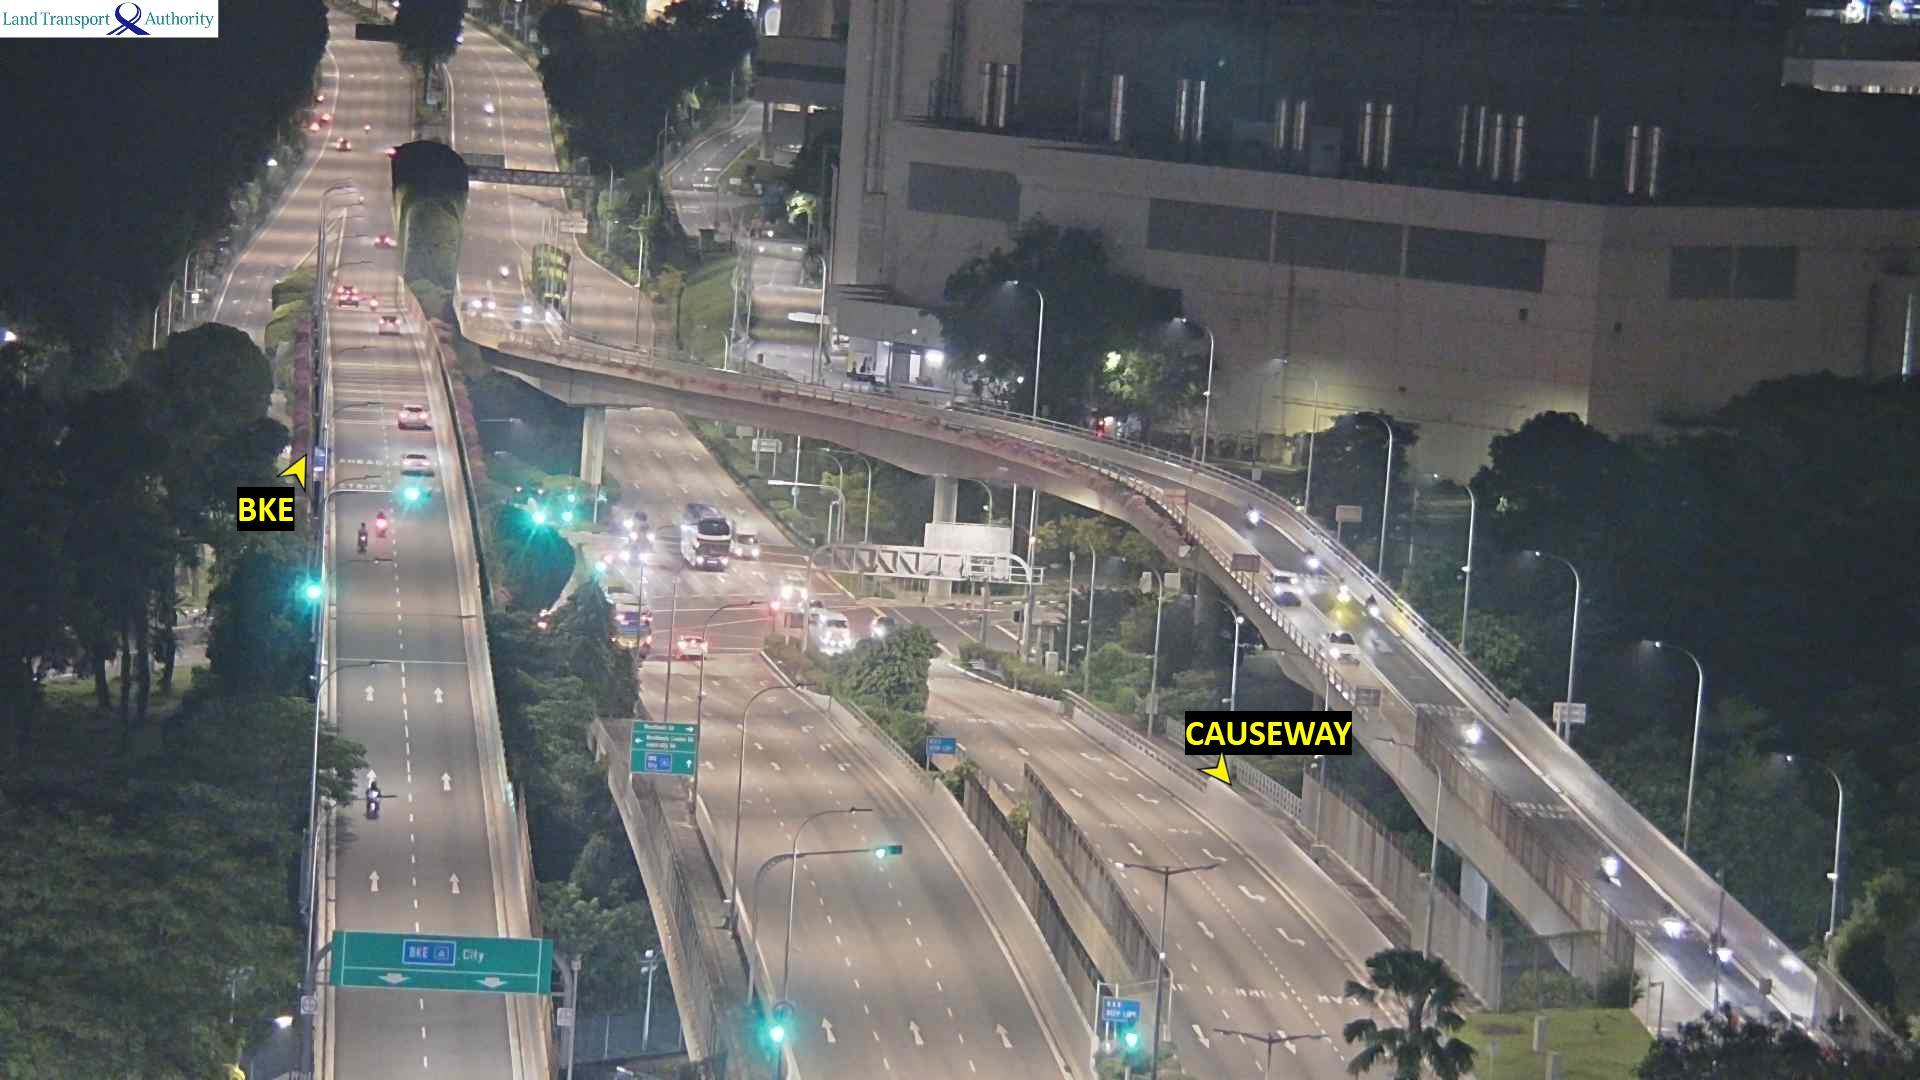vehicle-causeway-johor: (1316, 628, 1365, 667), (1267, 570, 1302, 613), (812, 613, 848, 642), (1656, 905, 1685, 938), (1598, 844, 1621, 884), (475, 297, 500, 319), (1458, 713, 1476, 745), (1709, 926, 1726, 957), (1304, 550, 1319, 579), (1337, 582, 1350, 609), (1365, 595, 1377, 618), (1247, 505, 1259, 527), (500, 262, 510, 281)
vehicle-causeway-singapore: (671, 637, 708, 659), (398, 406, 431, 430), (404, 455, 435, 473), (378, 319, 407, 335), (363, 798, 380, 820), (373, 509, 386, 535), (335, 294, 359, 309), (357, 522, 368, 550), (369, 295, 376, 309)
